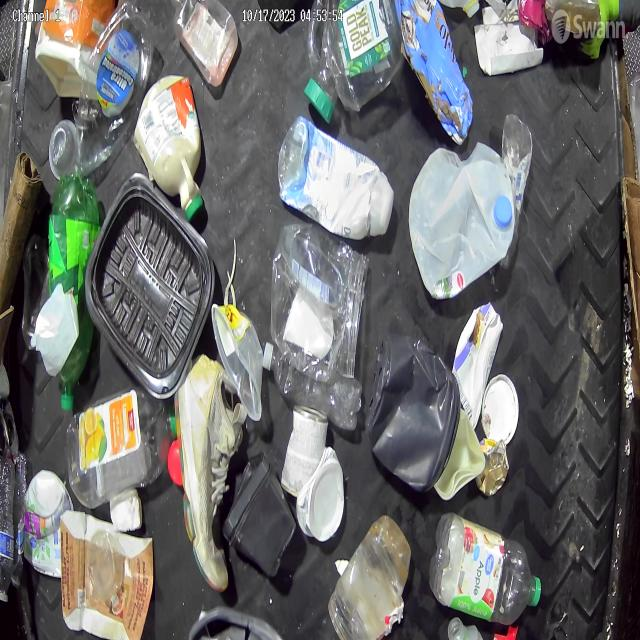can: (474, 435, 509, 498)
milk_jug: (410, 144, 518, 306)
non_white_jug: (64, 508, 156, 640)
plastic_bottle: (432, 516, 544, 622), (262, 341, 363, 433), (10, 453, 28, 589), (0, 455, 15, 603)
